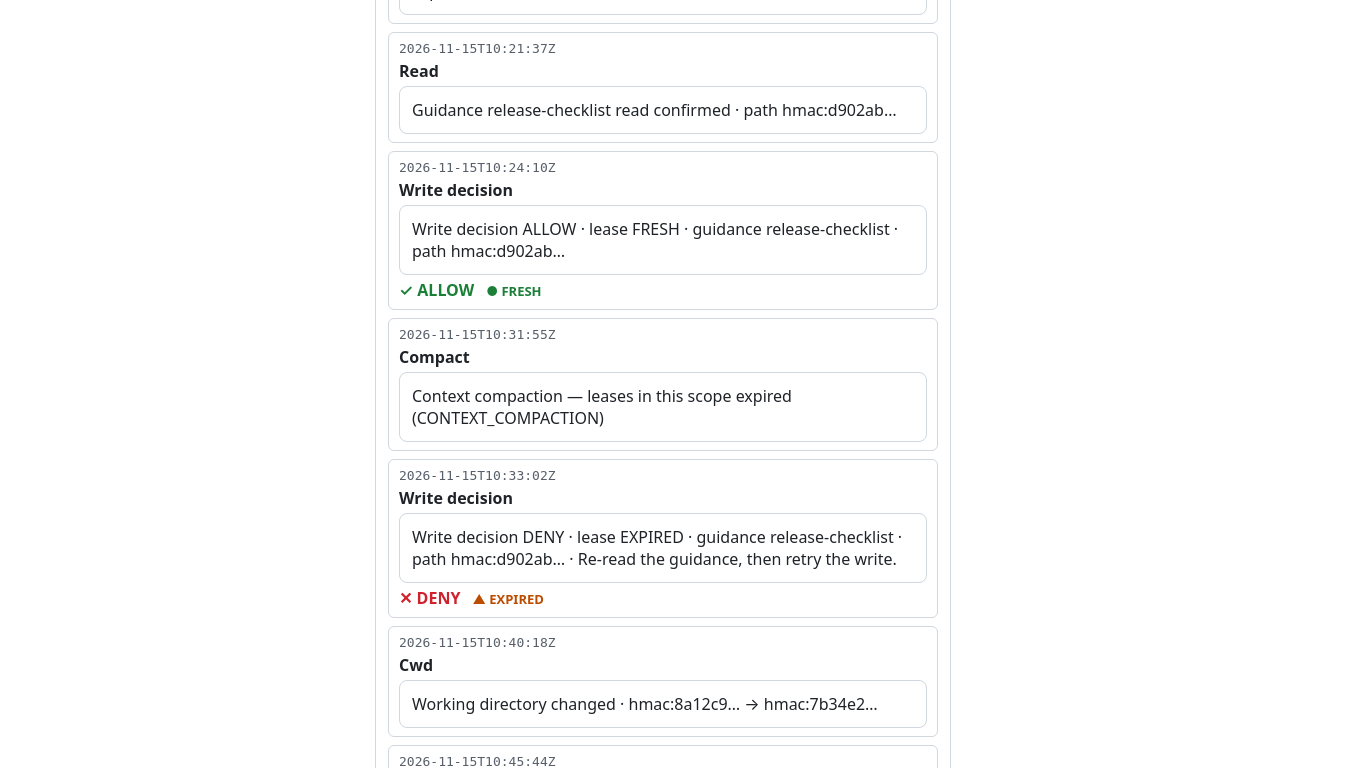
Test: App dashboard › shows the reason code when an invalidation event is clicked
This screenshot has width=1366, height=768.
(page scrolled)
Click the button with test id "entry-e6". click: (663, 384)
box: [388,318,938,451]
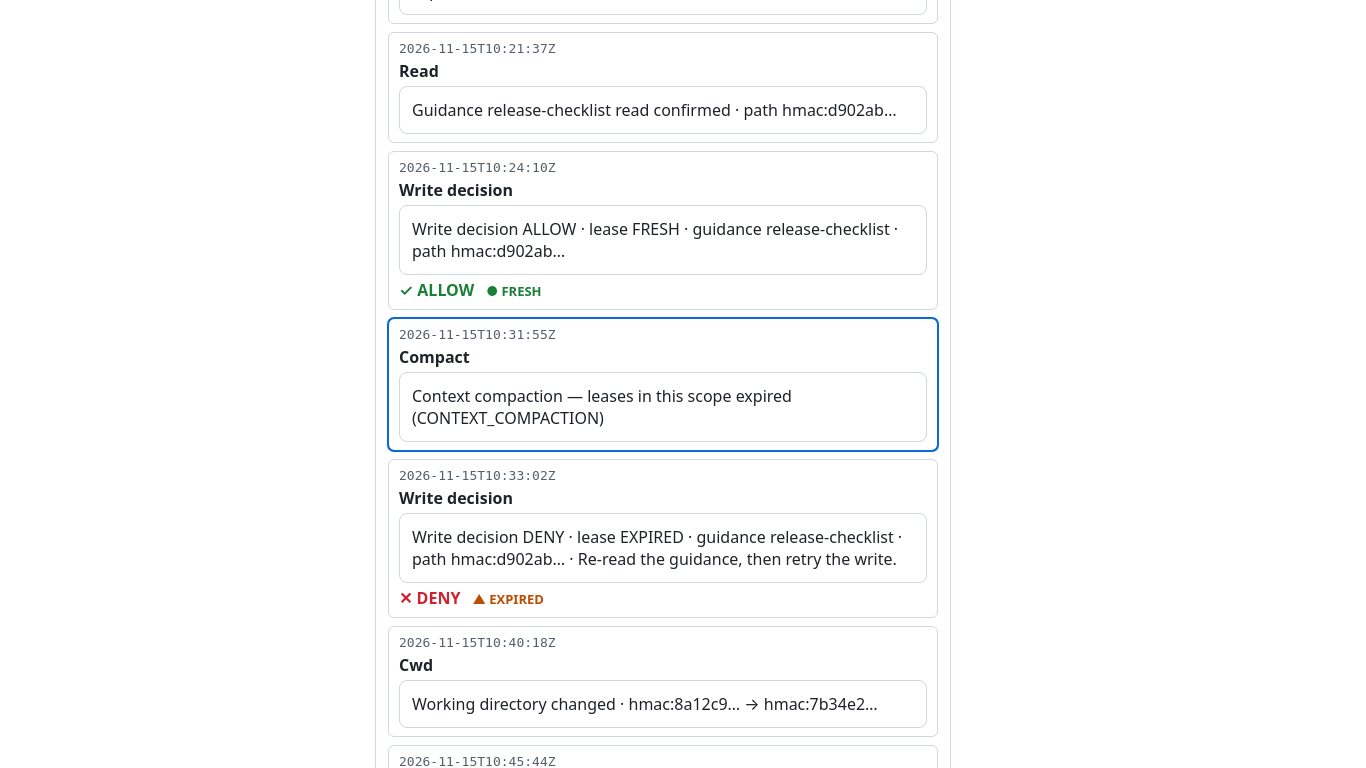
Click the button with test id "entry-e7". click: (663, 538)
box: [388,459,938,618]
(page scrolled)
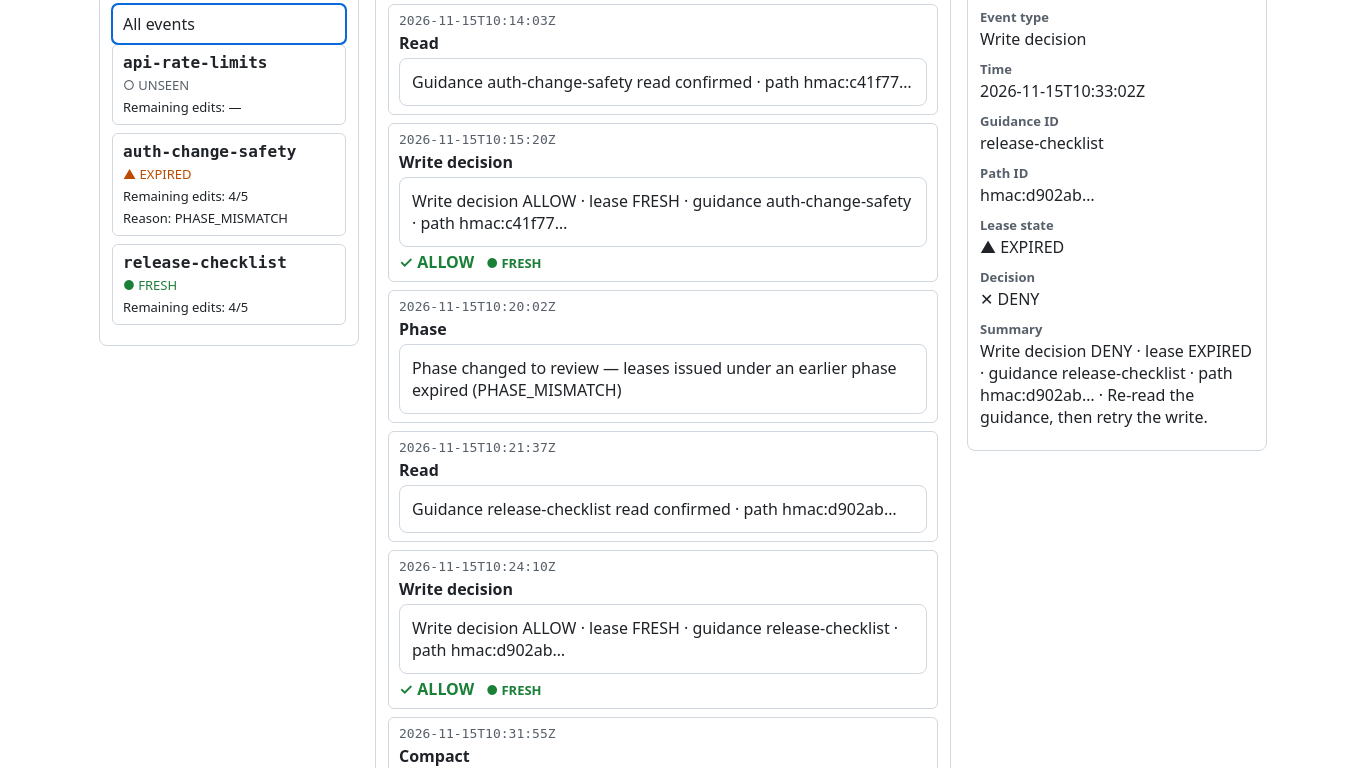
expect the text with test id "detail-decision" reads "✕ DENY": met, box [980,288,1039,310]
expect the text with test id "detail-state" reads "▲ EXPIRED": met, box [980,236,1064,258]
expect the text with test id "detail-summary" shows "Re-read the guidance": met, box [980,340,1252,428]
